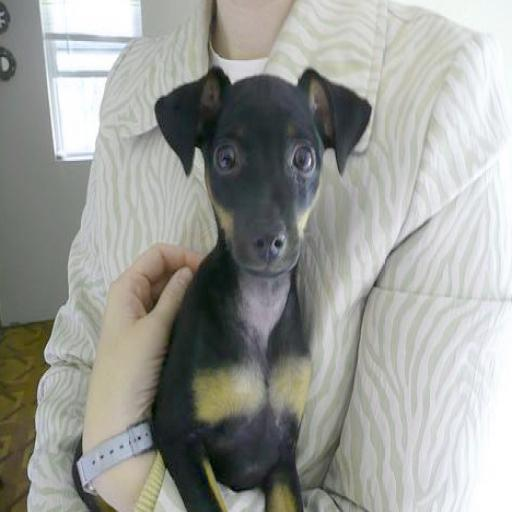dog_face: (167, 64, 360, 289)
